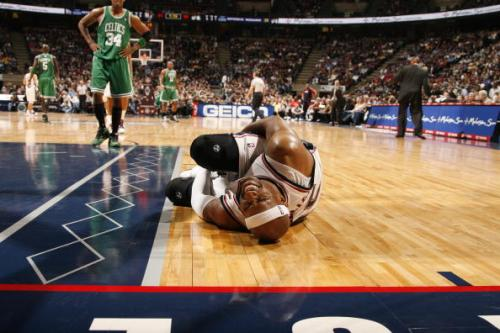10+: (1, 1, 497, 246)
down: (158, 111, 335, 248)
